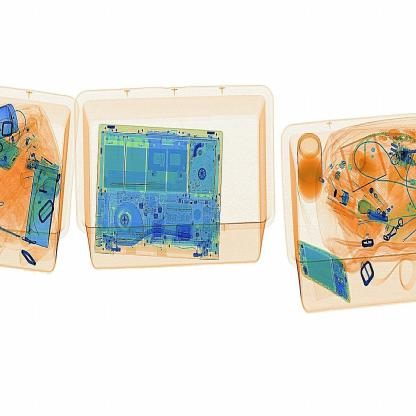pliers: (104, 174, 170, 202)
